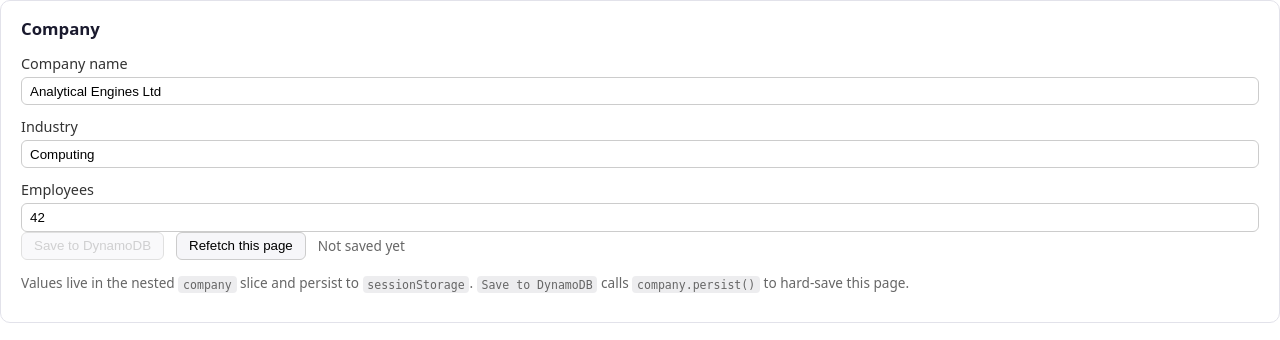
Test case: <CompanyPage /> › editing back to the hard value clears dirty and re-disables Save
Replace the text in the field labelled "Company name" with "Changed" at point(640, 91), box [21,77,1259,105]
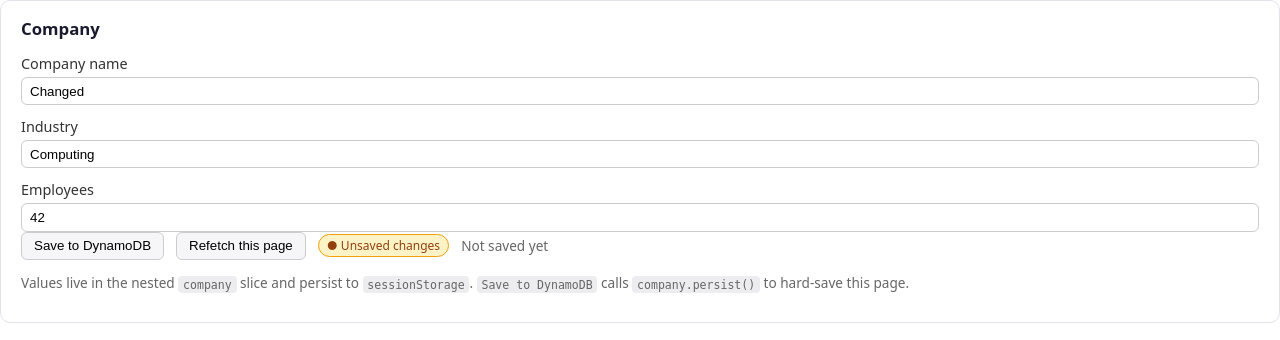
Replace the text in the field labelled "Company name" with "Analytical Engines Ltd" at point(640, 91), box [21,77,1259,105]
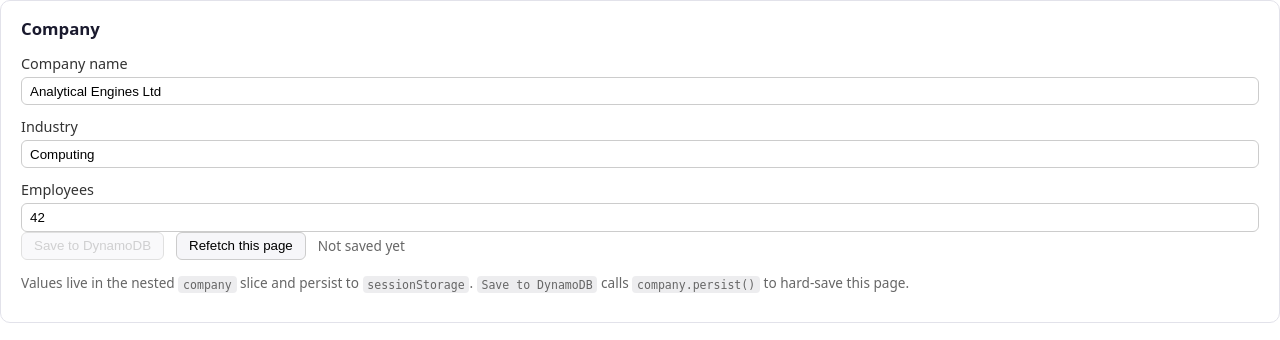
expect the text "● Unsaved changes" is gone: met
expect the button "Save to DynamoDB" is disabled: met, box [21,232,164,260]
